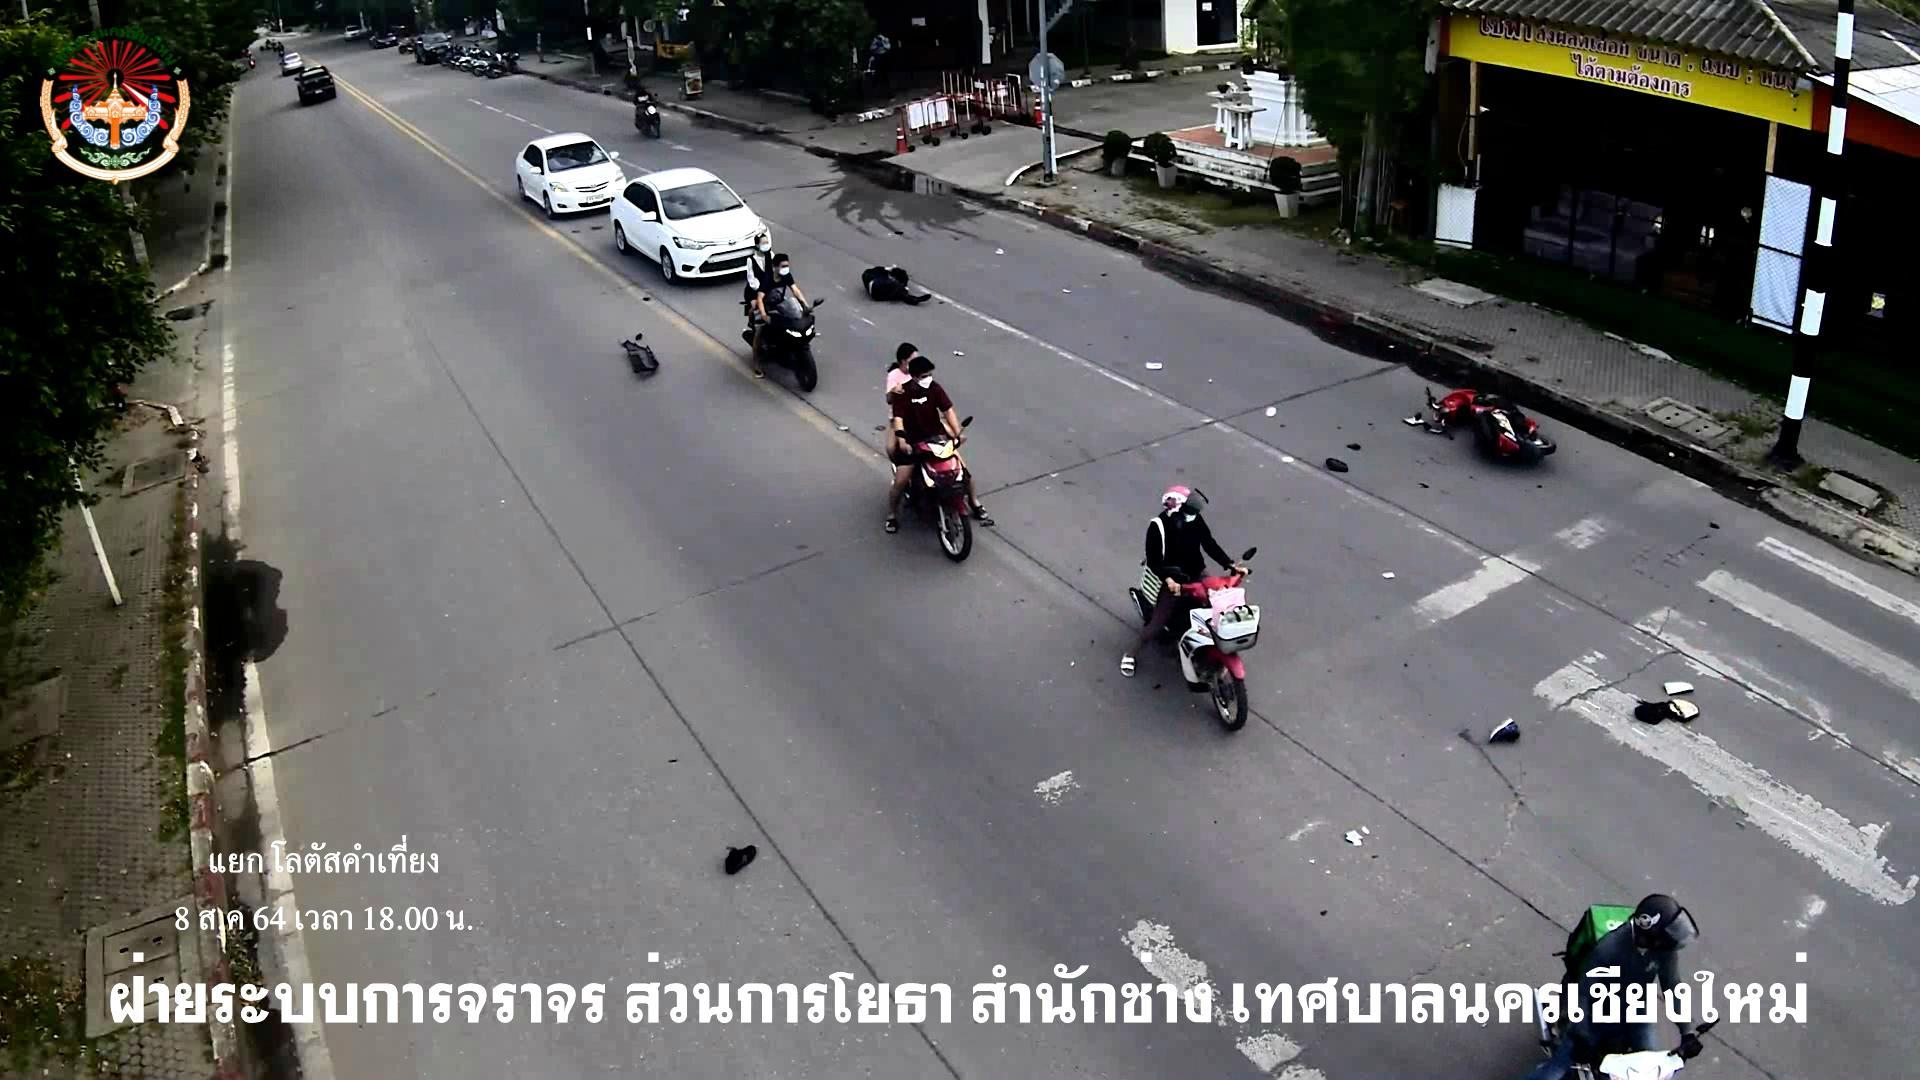accident: (855, 260, 940, 311)
